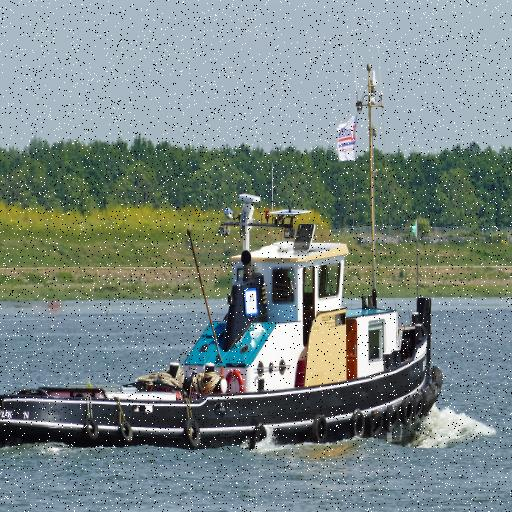tugboat: (1, 34, 448, 464)
